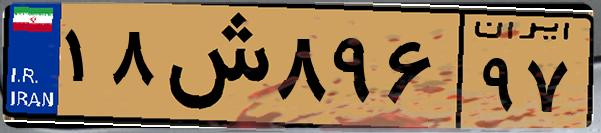1: (57, 26, 110, 100)
6: (385, 28, 445, 110)
7: (525, 38, 570, 115)
8: (270, 28, 330, 110), (110, 28, 158, 98)
9: (330, 28, 385, 110), (475, 38, 525, 113)
ش: (158, 12, 270, 120)
